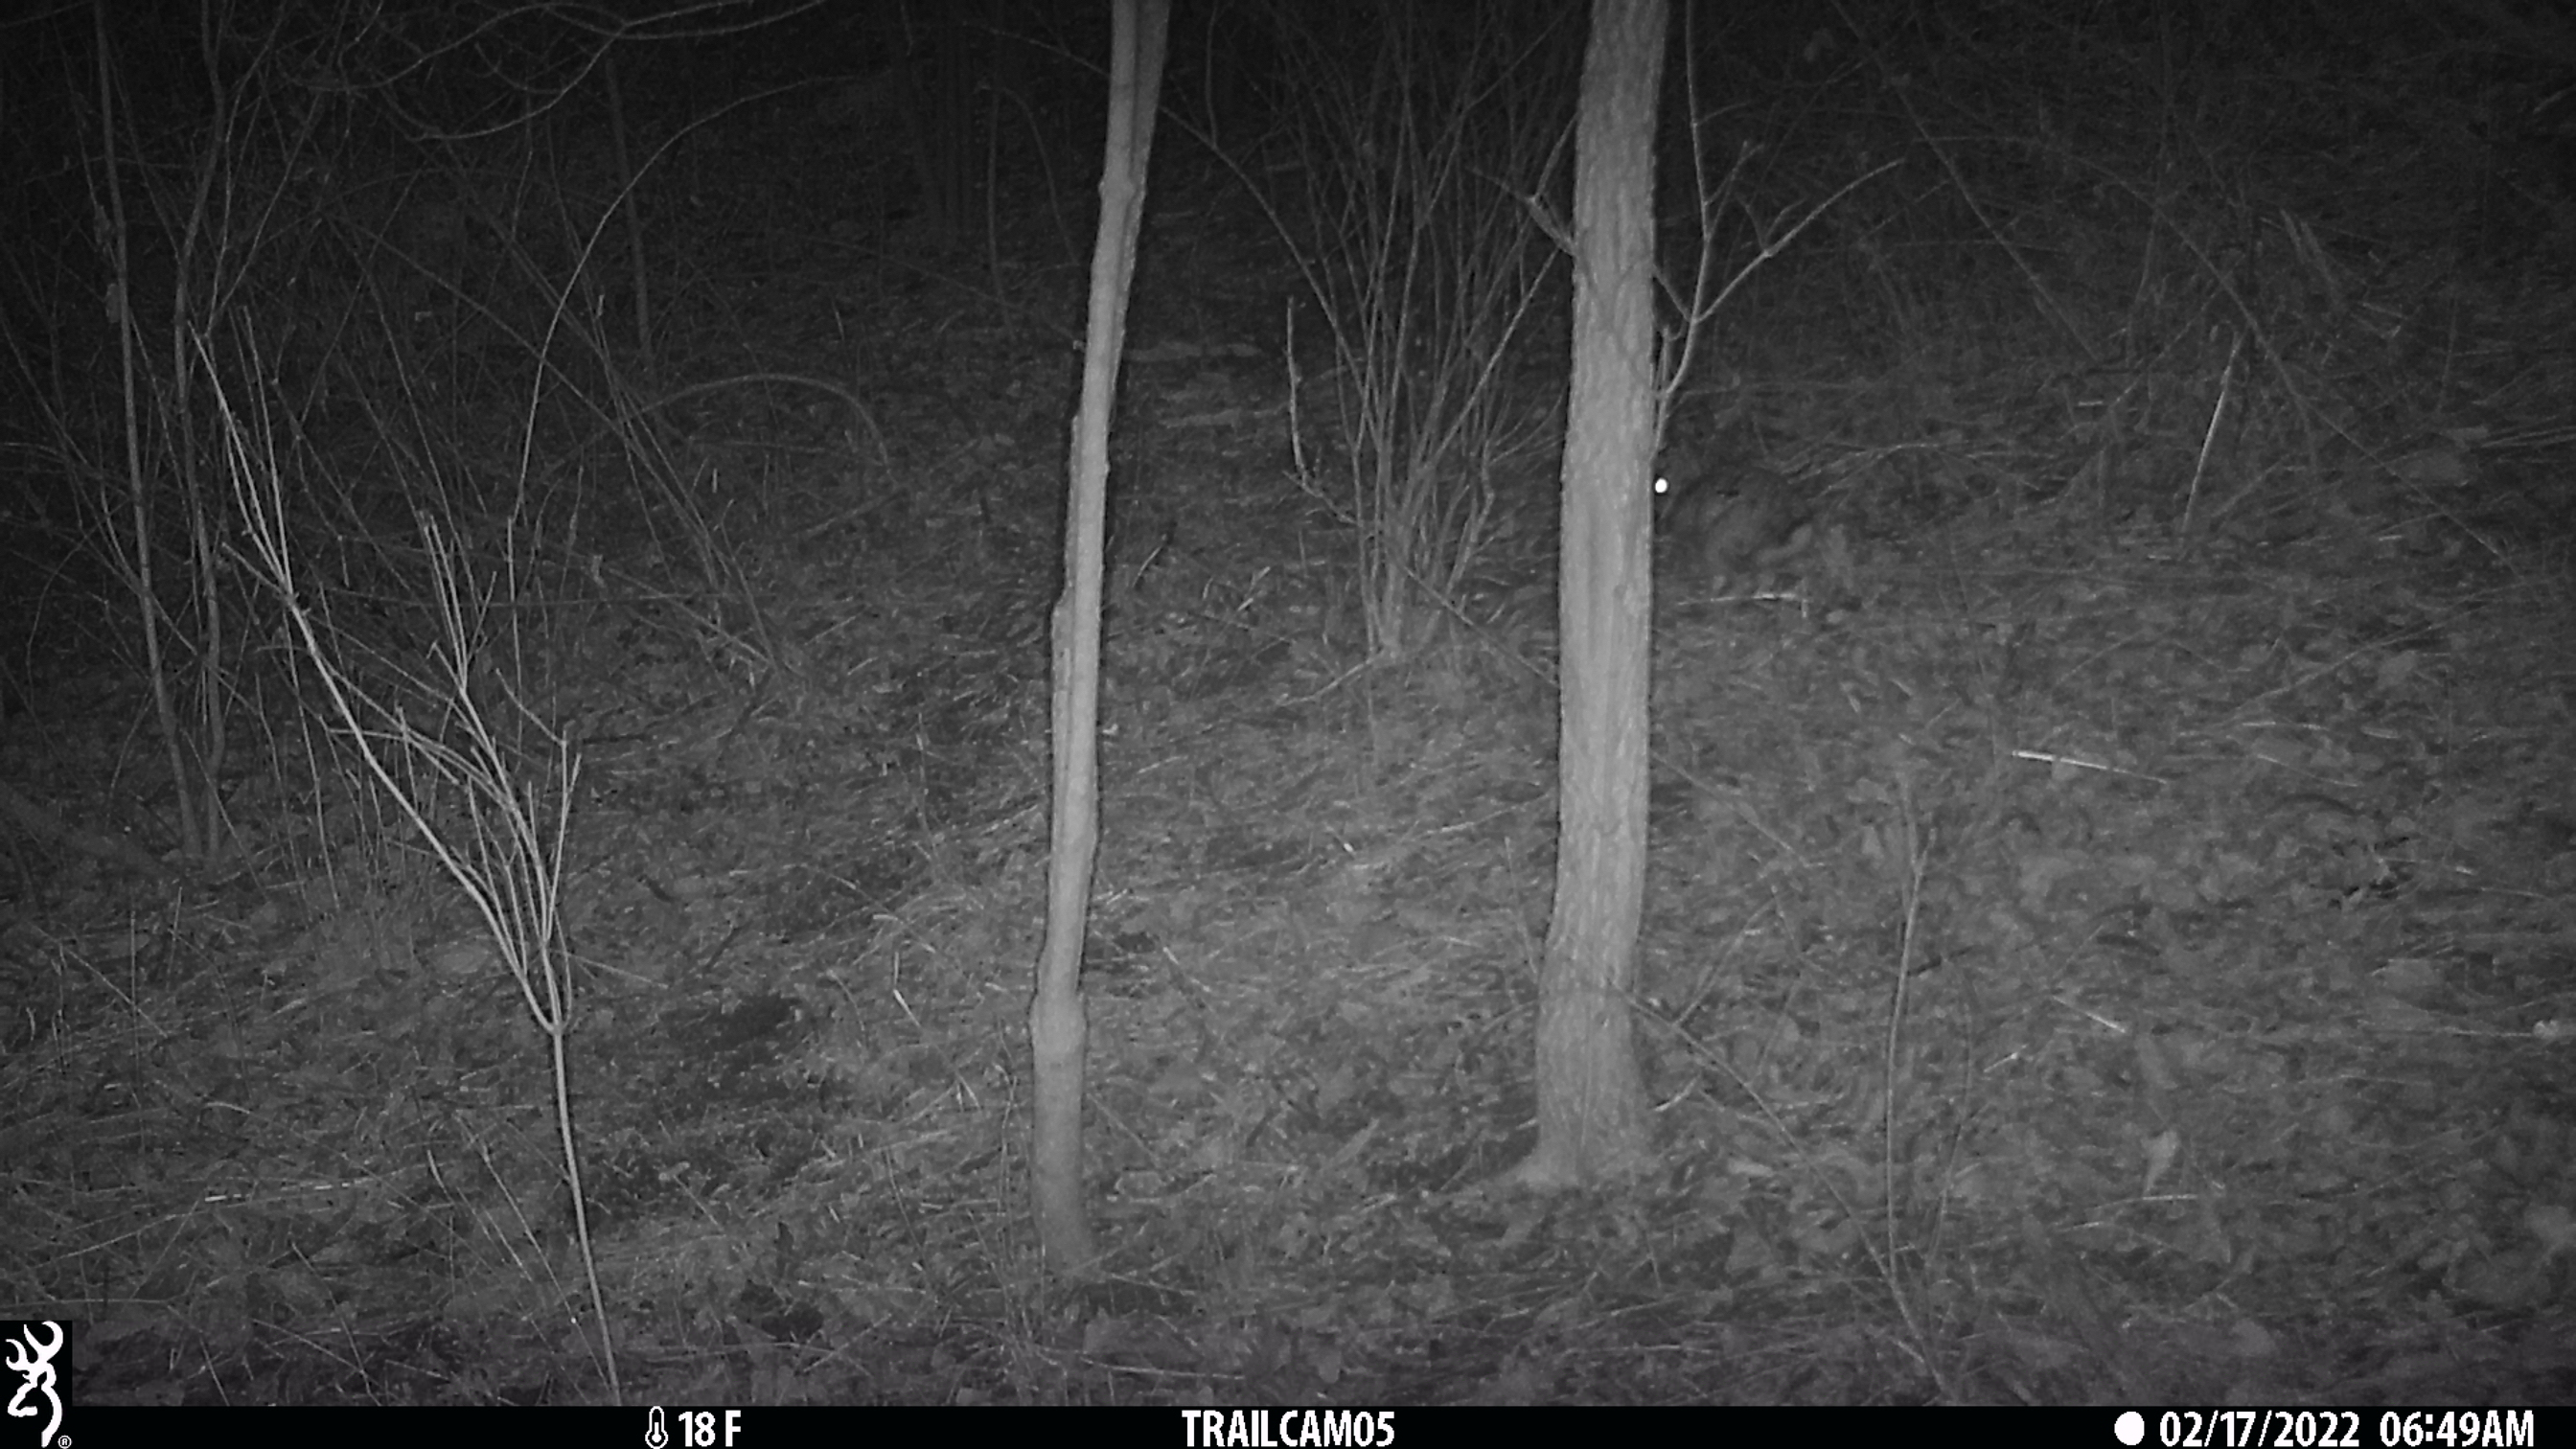Rabbit: (1654, 428, 1815, 577)
